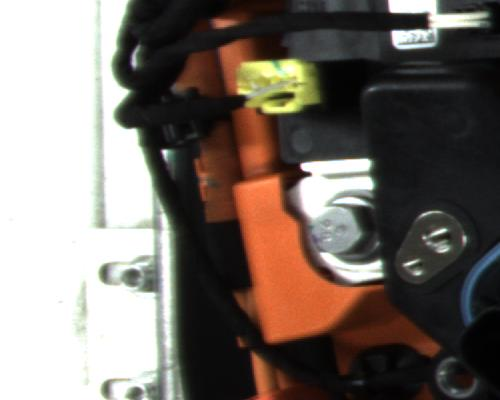nut_b: (308, 185, 381, 272)
